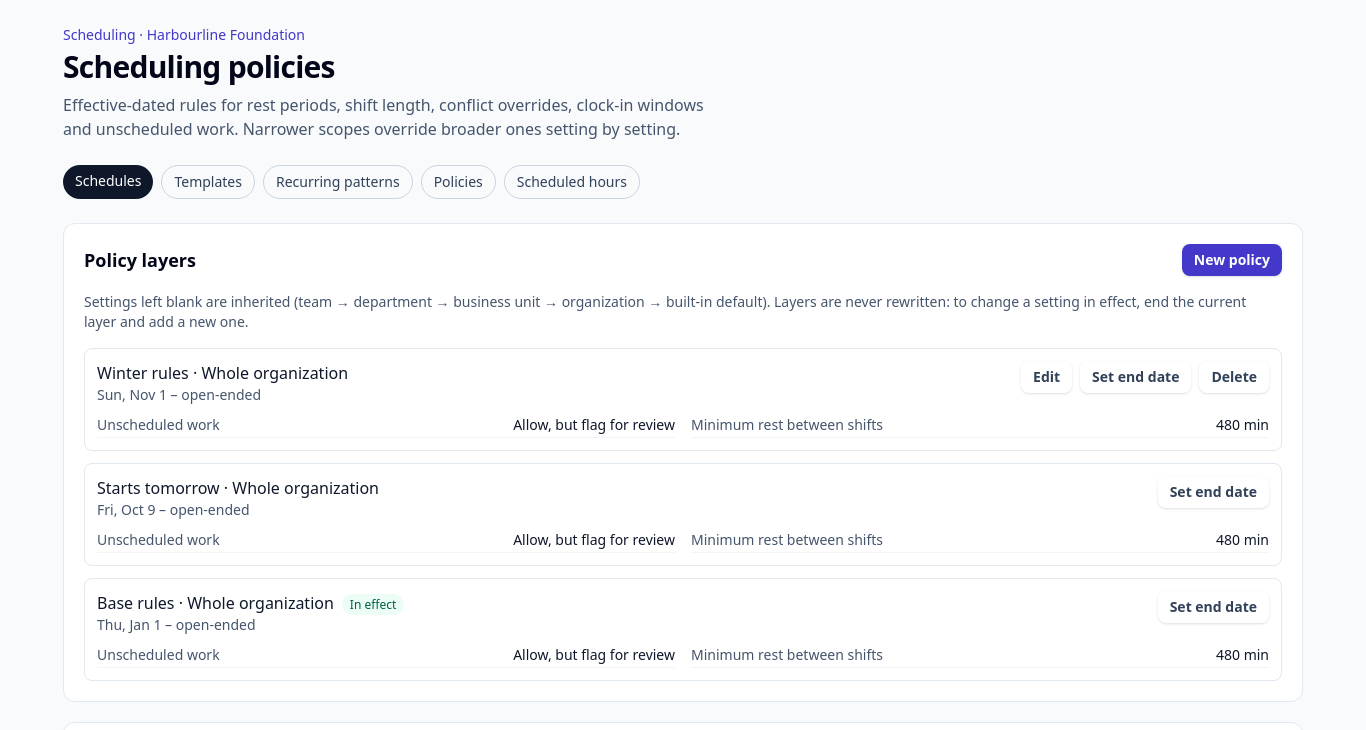
Scenario: SchedulePoliciesPage: editing a policy › validates locally: no empty policy, no unchanged save, no end before start
Click the button named "Edit Winter rules" at (1047, 377), box [1021,361,1072,393]
(page scrolled)
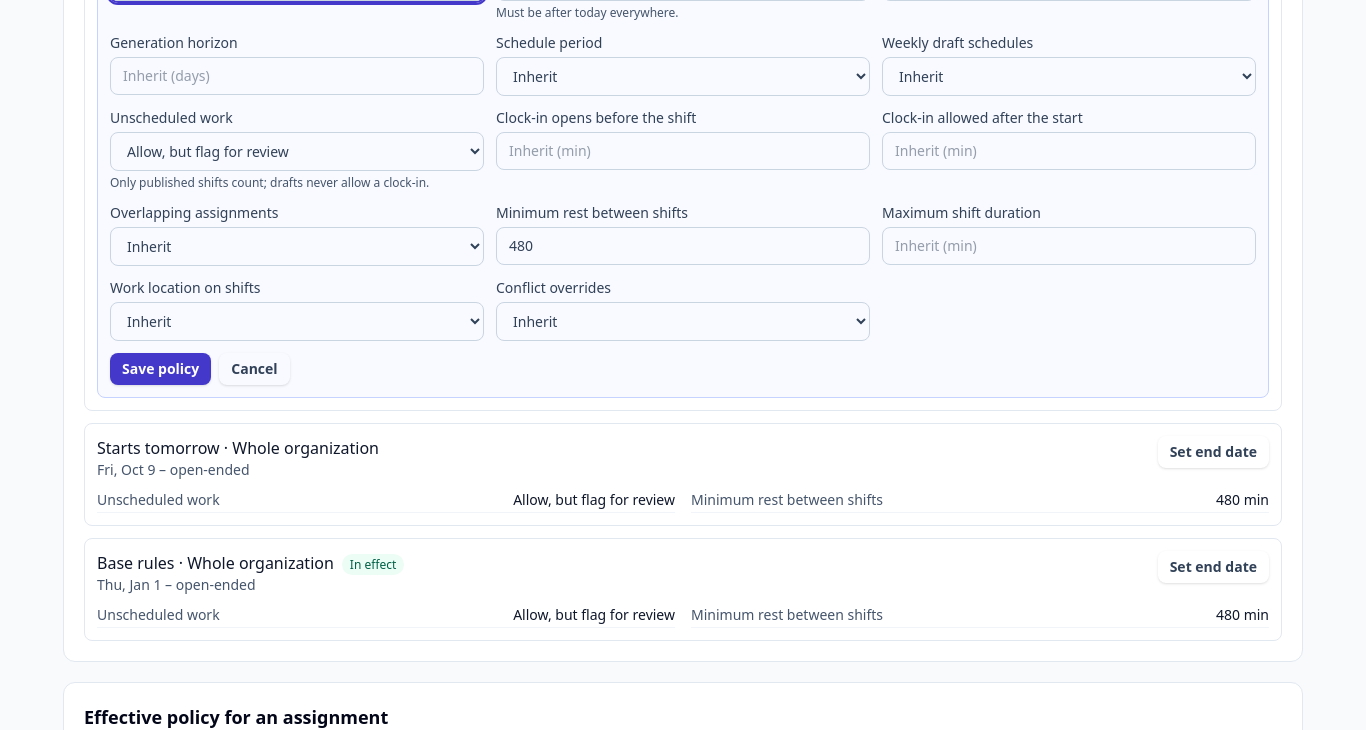
Click the button "Save policy" at (161, 369), box [110,353,211,385]
(page scrolled)
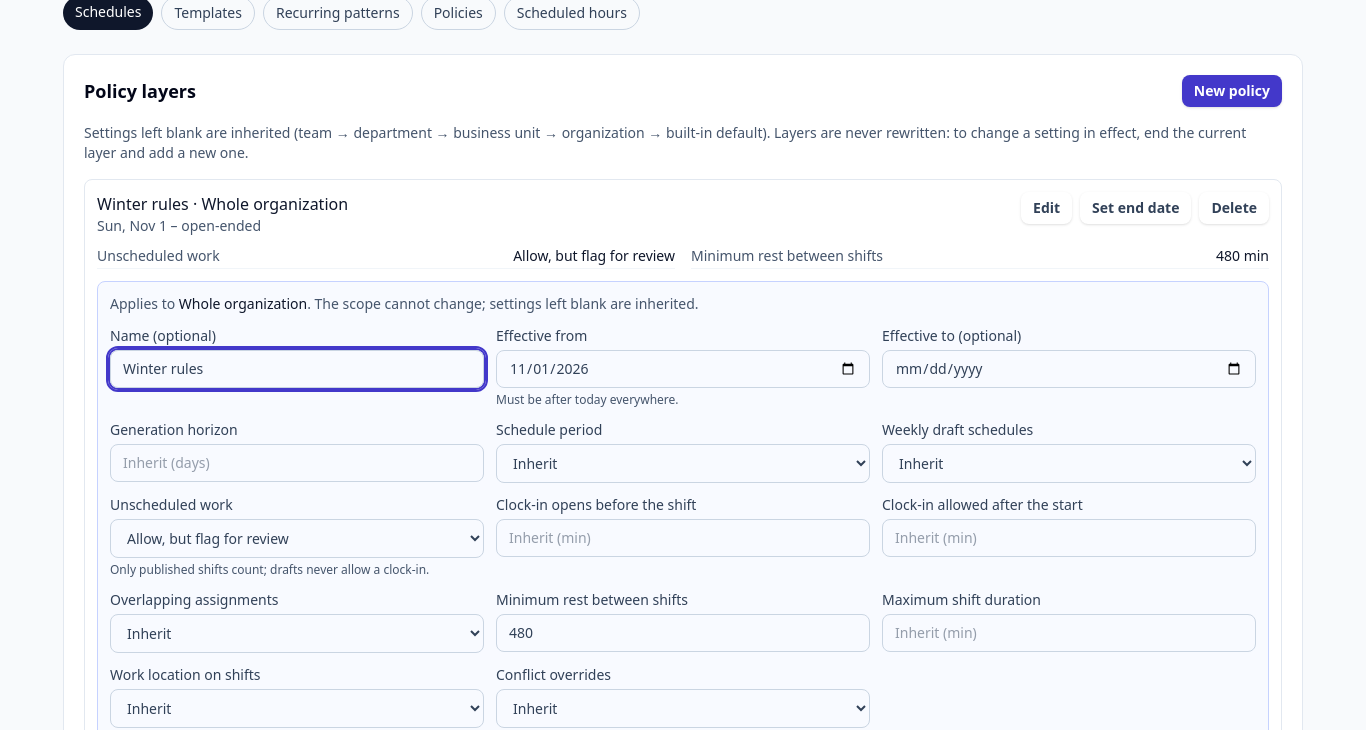
Type "2026-10-20" into the date field labelled "Effective to (optional)" at (1069, 369), box [882,350,1256,388]
(page scrolled)
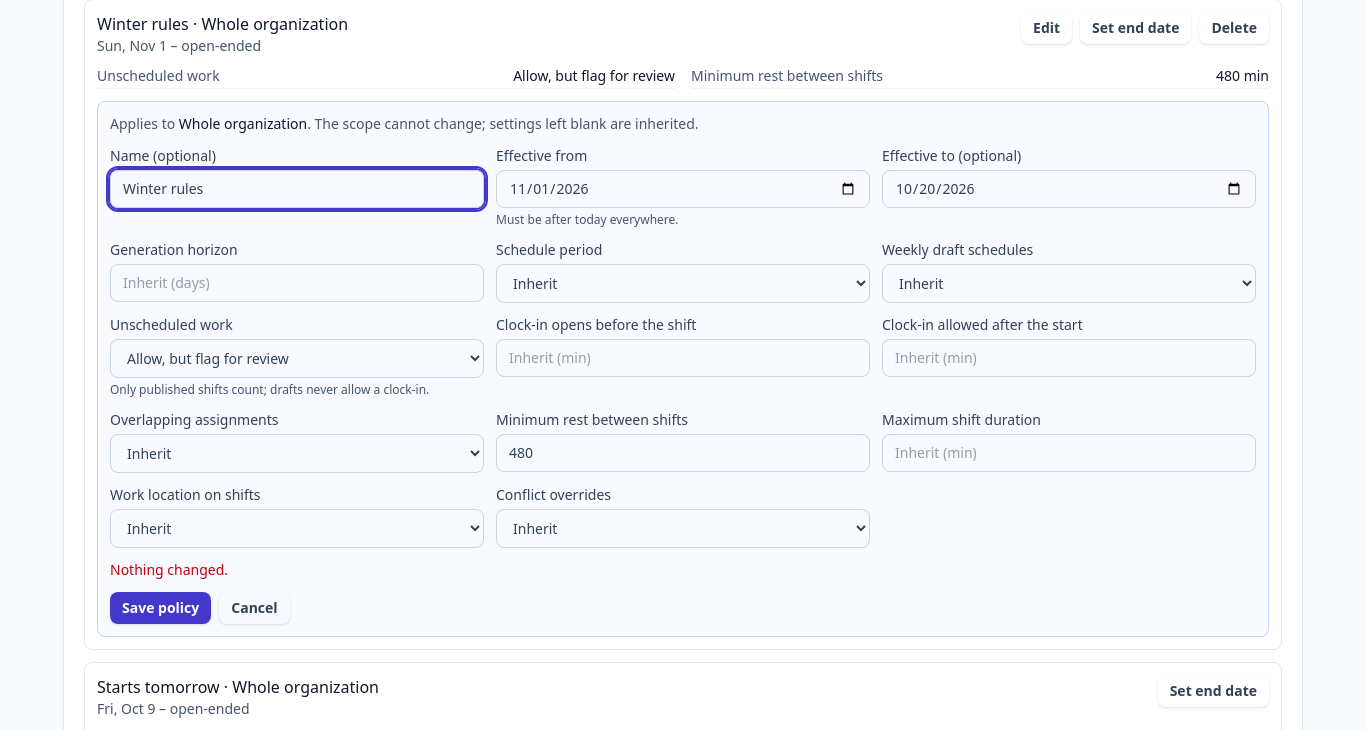
Submit the form named "Edit Winter rules"
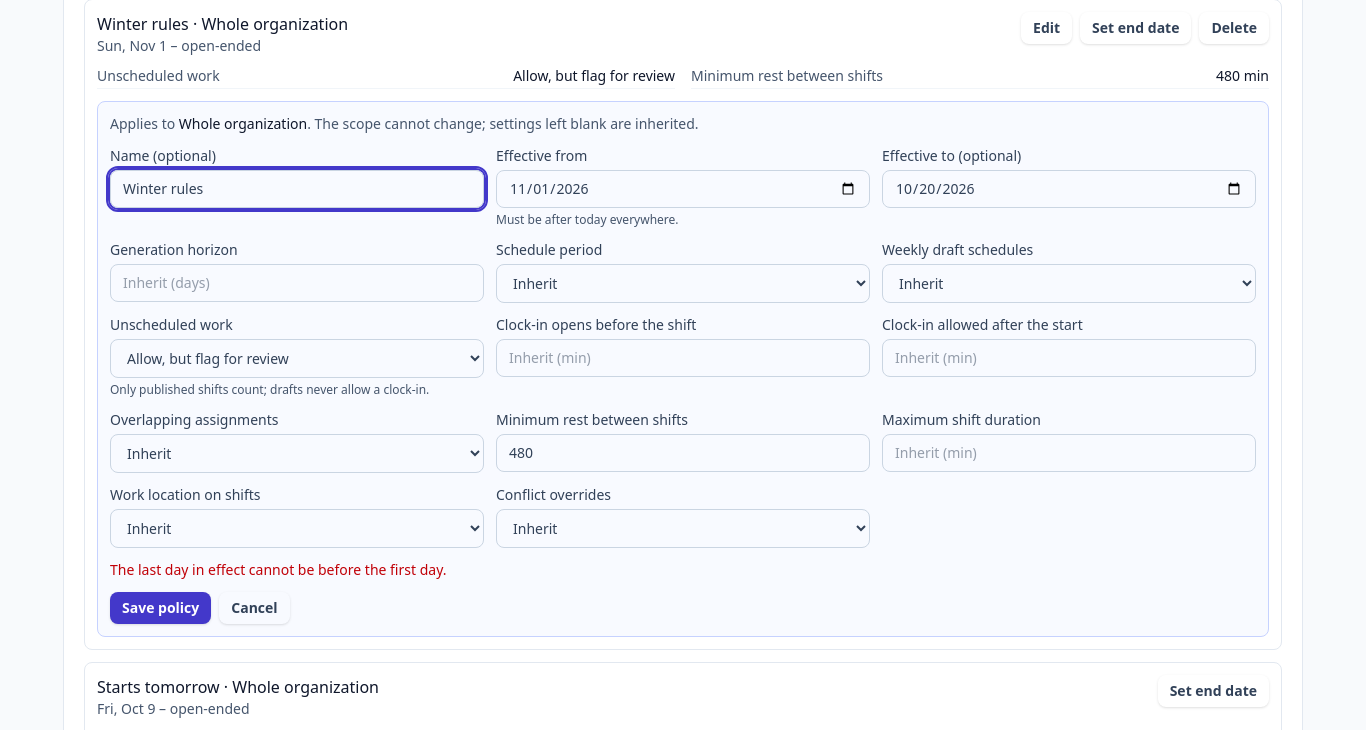
Expected: the message shows "cannot be before the first day", [110,560,446,579]
Clear the date field labelled "Effective to (optional)" at (1069, 189), box [882,170,1256,208]
Clear the number field labelled "Minimum rest between shifts" at (683, 453), box [496,434,870,472]
Select "Inherit" in the dropdown labelled "Unscheduled work" at (297, 358), box [110,339,484,378]
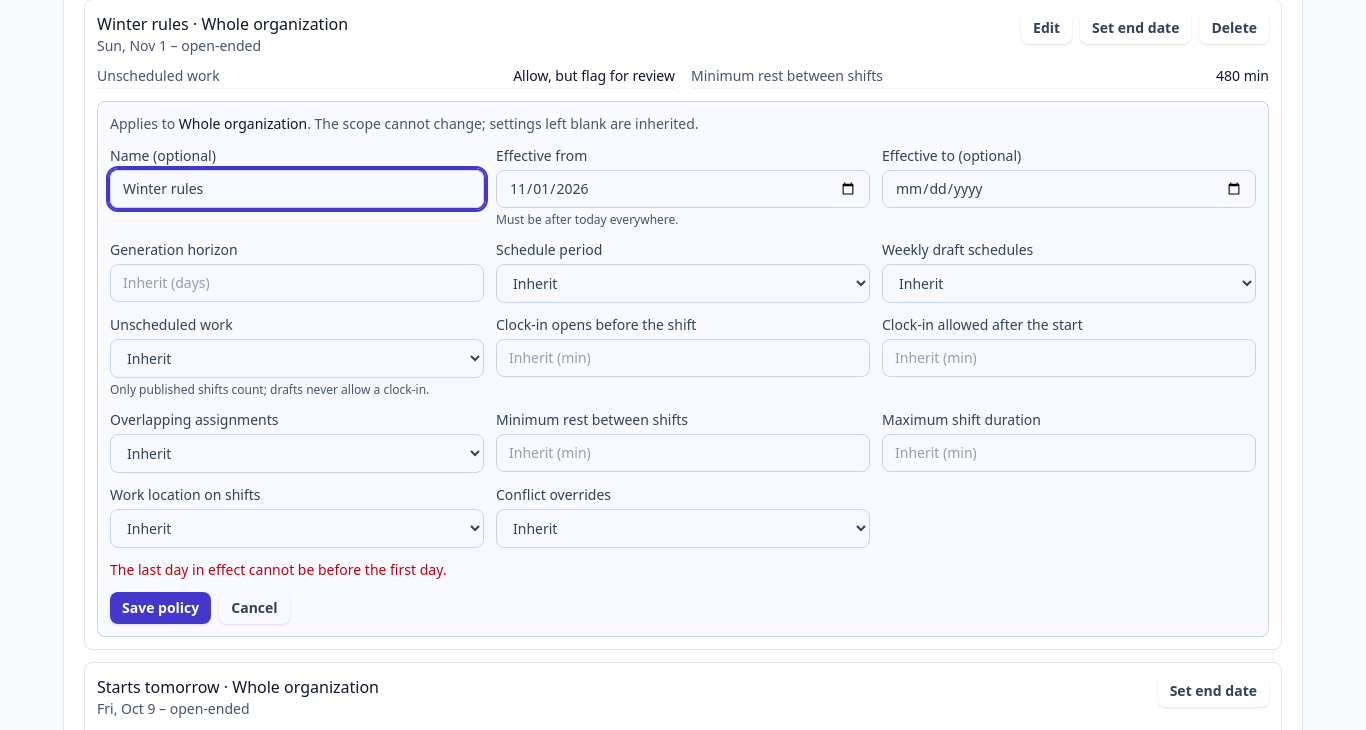
Click the button "Save policy" at (161, 608), box [110,592,211,624]
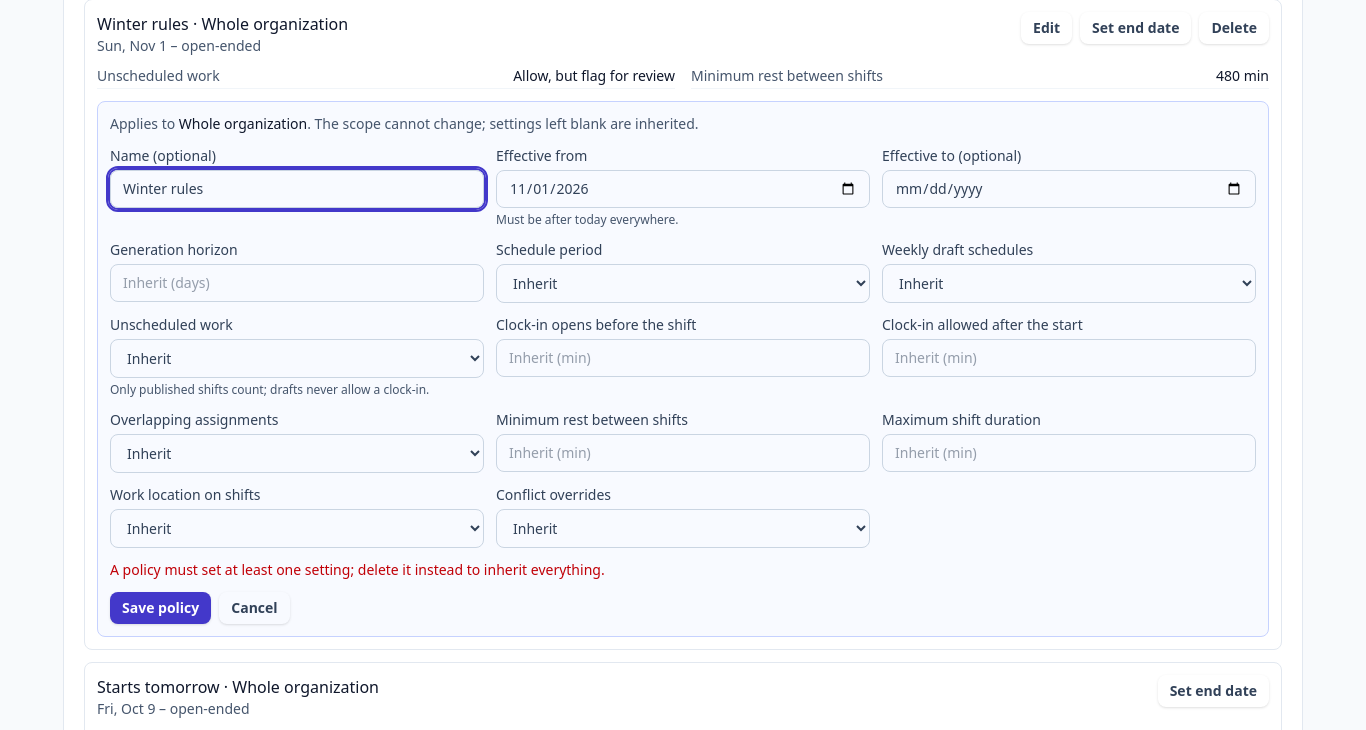
Expected: the message shows "at least one setting", [110,560,605,579]
